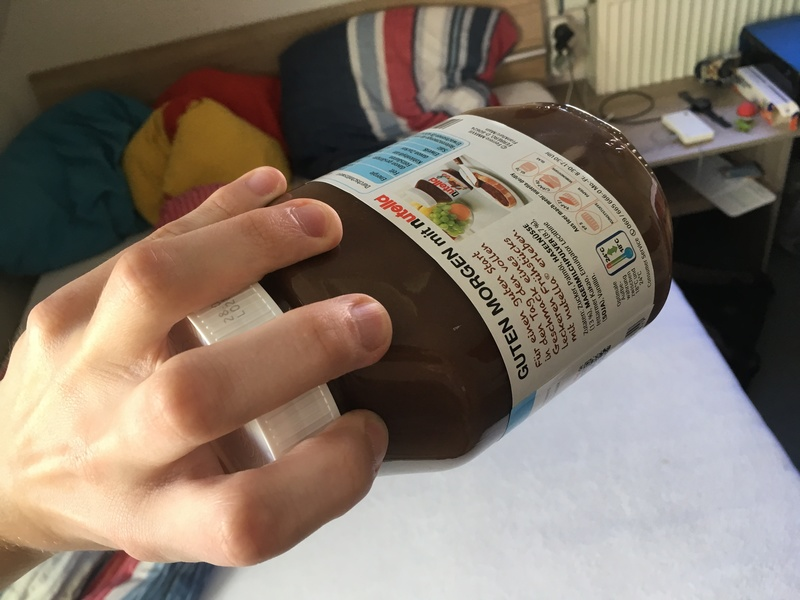nutella: (176, 102, 675, 474)
